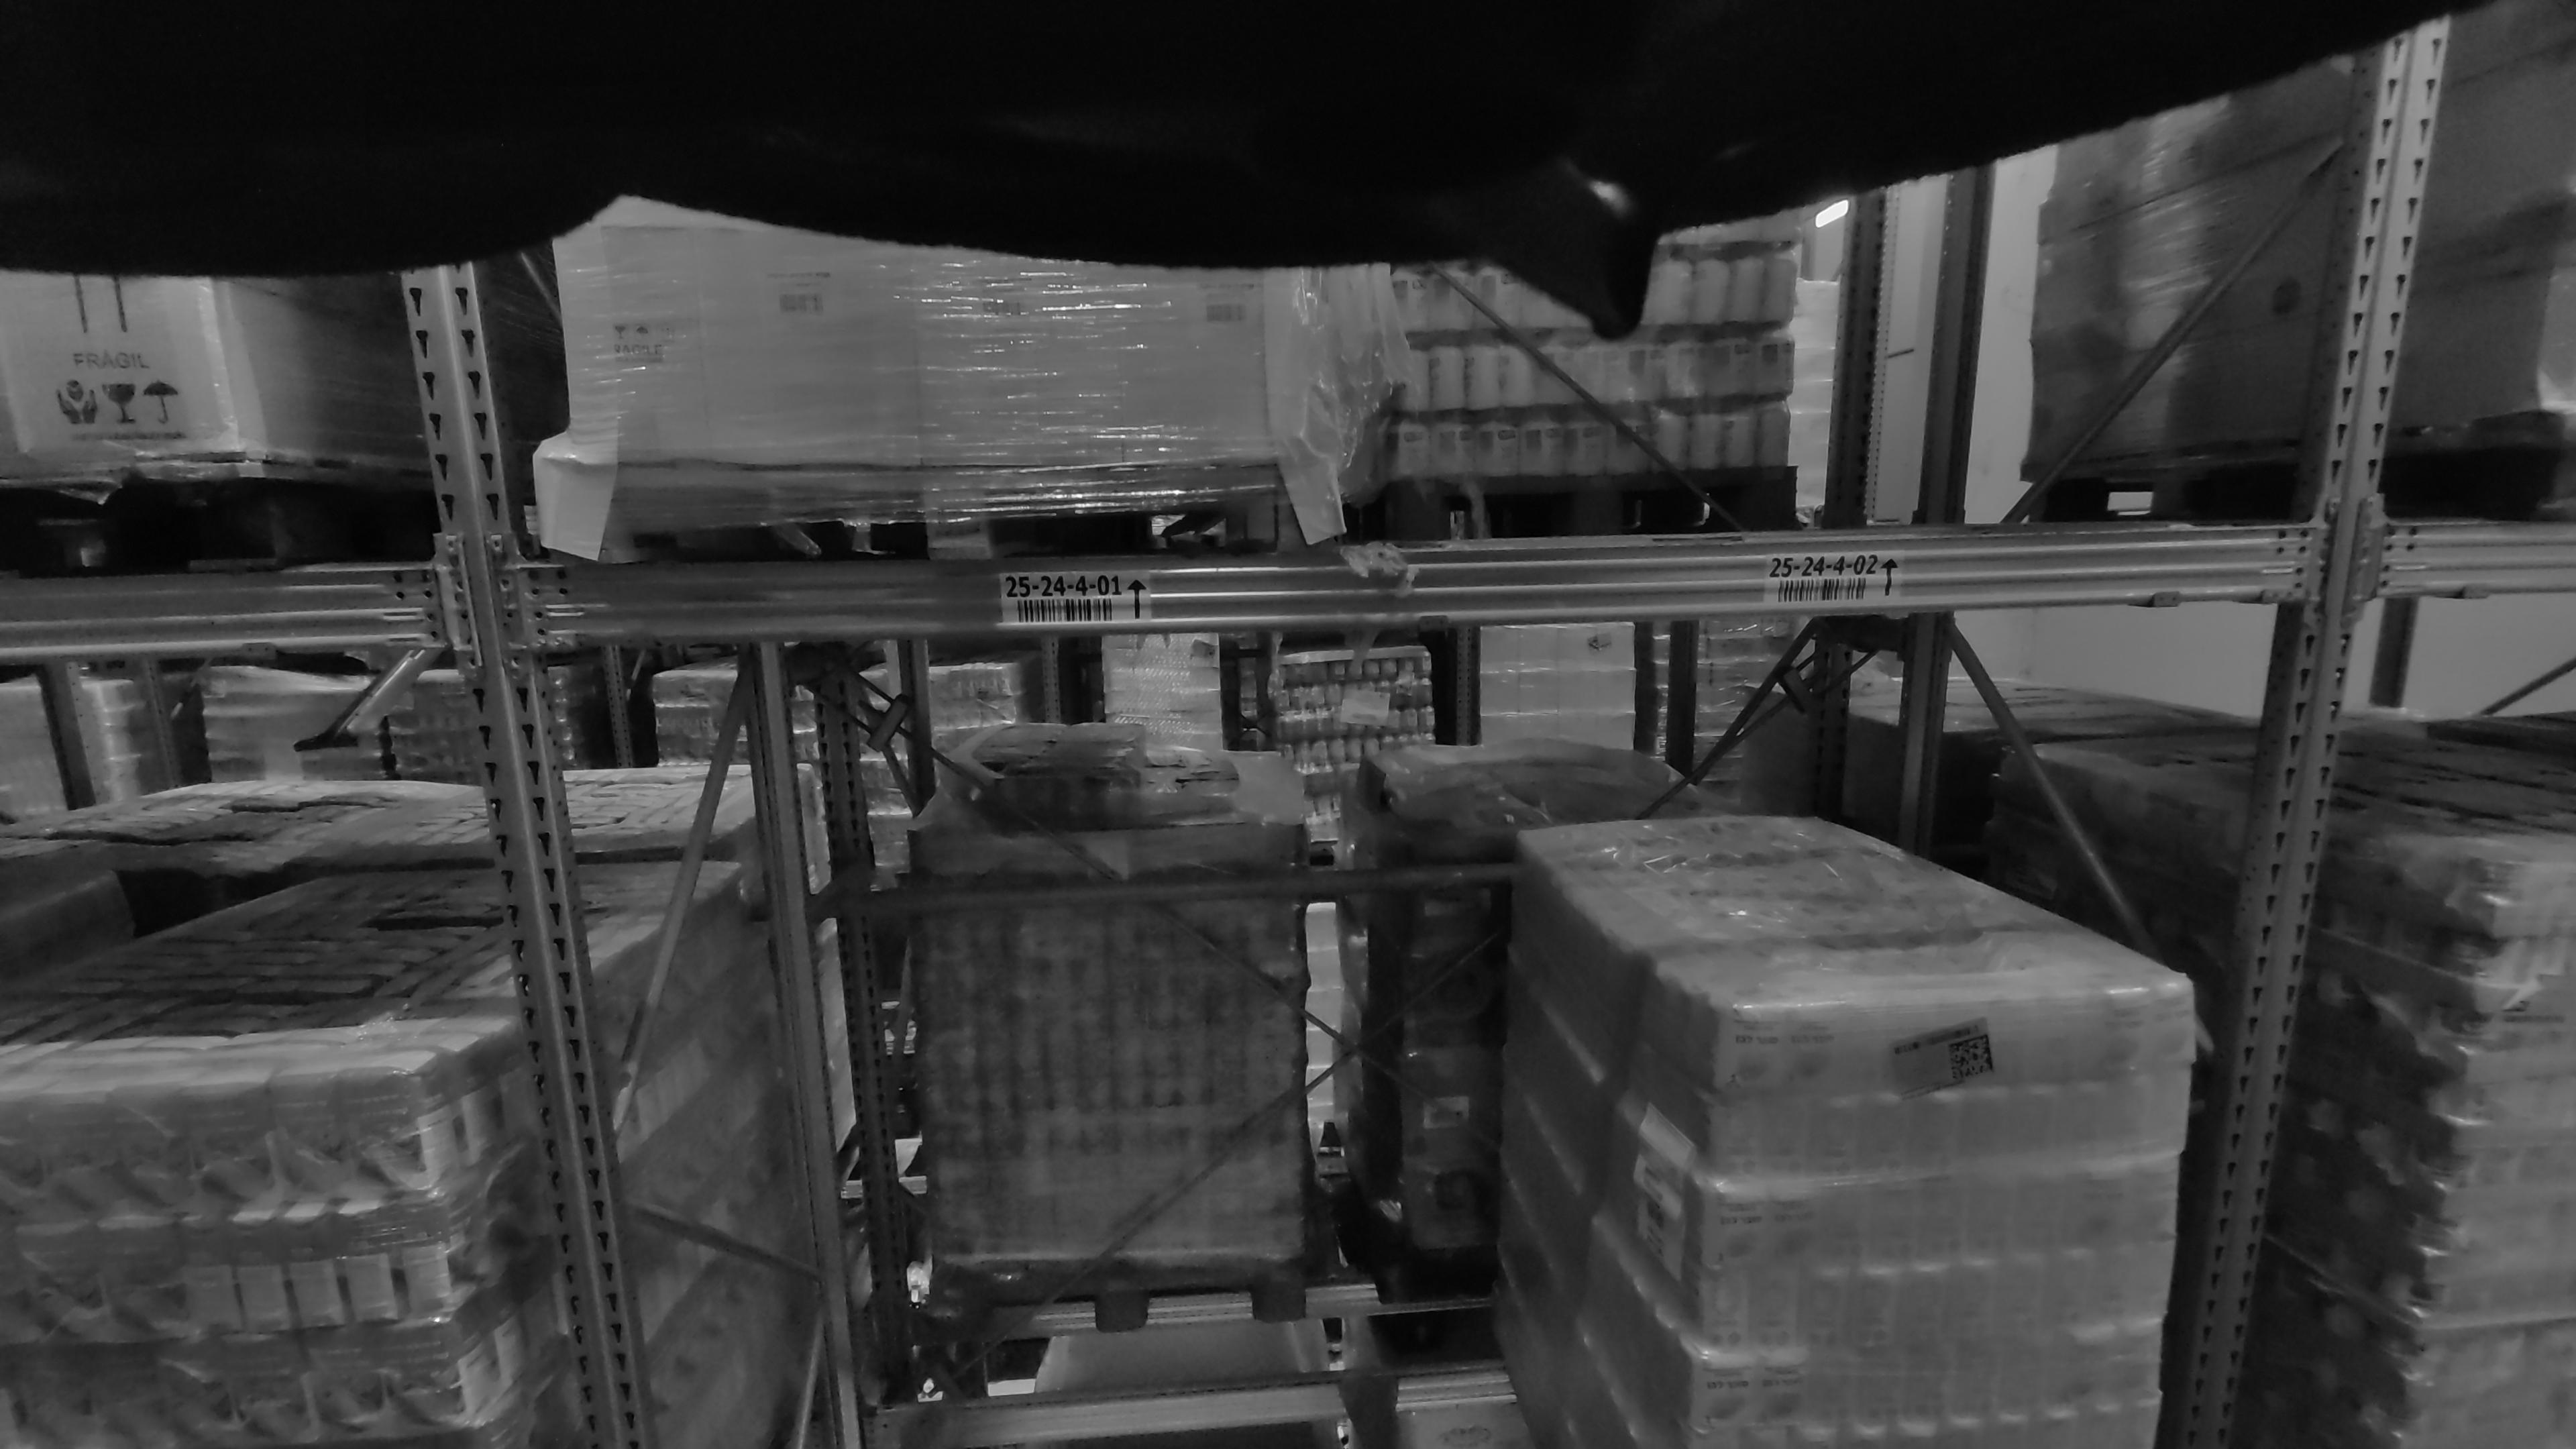empty-shelf: (722, 646, 1483, 1449), (1463, 246, 2231, 527)
